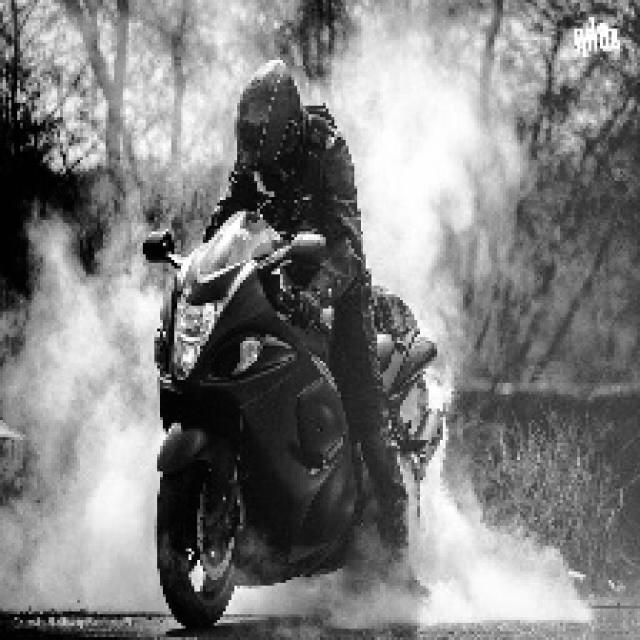Bike: (128, 193, 368, 639)
